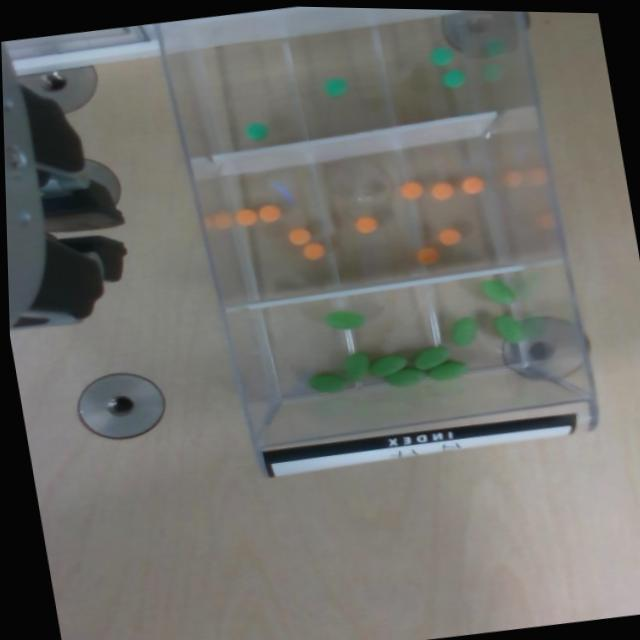famodine: (243, 120, 271, 142), (442, 68, 467, 91), (429, 46, 456, 67), (323, 77, 348, 98)
otillen_tab: (478, 276, 516, 307), (490, 313, 523, 346), (367, 353, 408, 379), (308, 370, 347, 396), (412, 345, 452, 370), (426, 360, 469, 383), (327, 307, 365, 333), (341, 353, 371, 383), (449, 316, 478, 347), (386, 367, 426, 389)
samsung_octylonium_tab: (430, 180, 455, 201), (399, 180, 424, 201), (416, 247, 441, 268), (437, 227, 462, 247), (354, 215, 379, 235), (257, 204, 282, 224), (232, 208, 258, 227), (300, 242, 327, 260), (460, 176, 485, 195), (287, 228, 312, 247)
